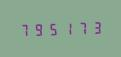five: (46, 20, 59, 37)
nine: (31, 21, 44, 37)
one: (60, 20, 73, 36)
seven: (17, 21, 30, 38), (74, 19, 87, 36)
three: (88, 19, 101, 35)
